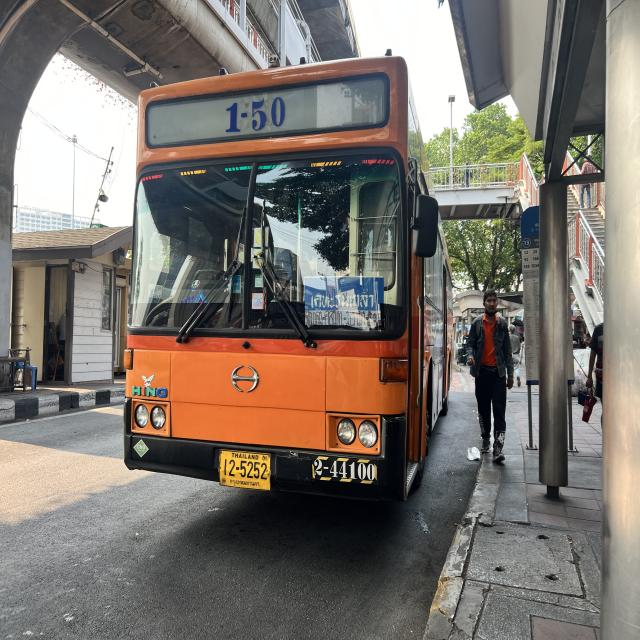BMTA-bus: (122, 55, 452, 505)
Bus-Line-Number: (224, 87, 289, 134)
Destination-Sign-Normal: (303, 278, 382, 329)
